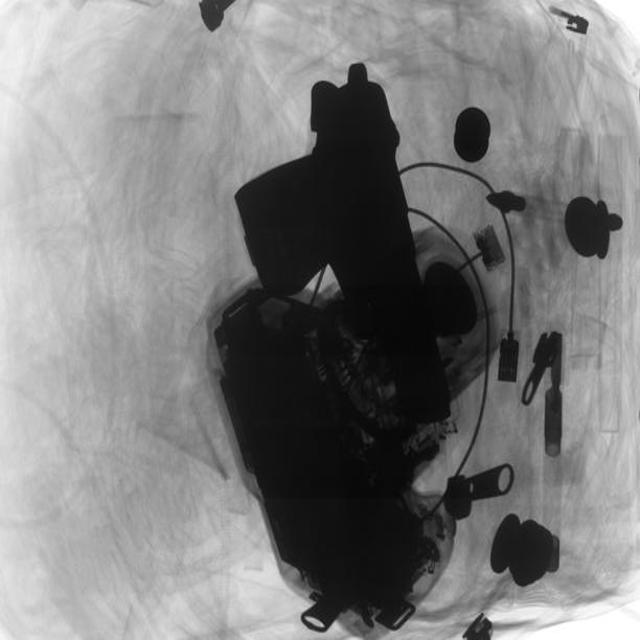gun: (231, 54, 458, 426)
